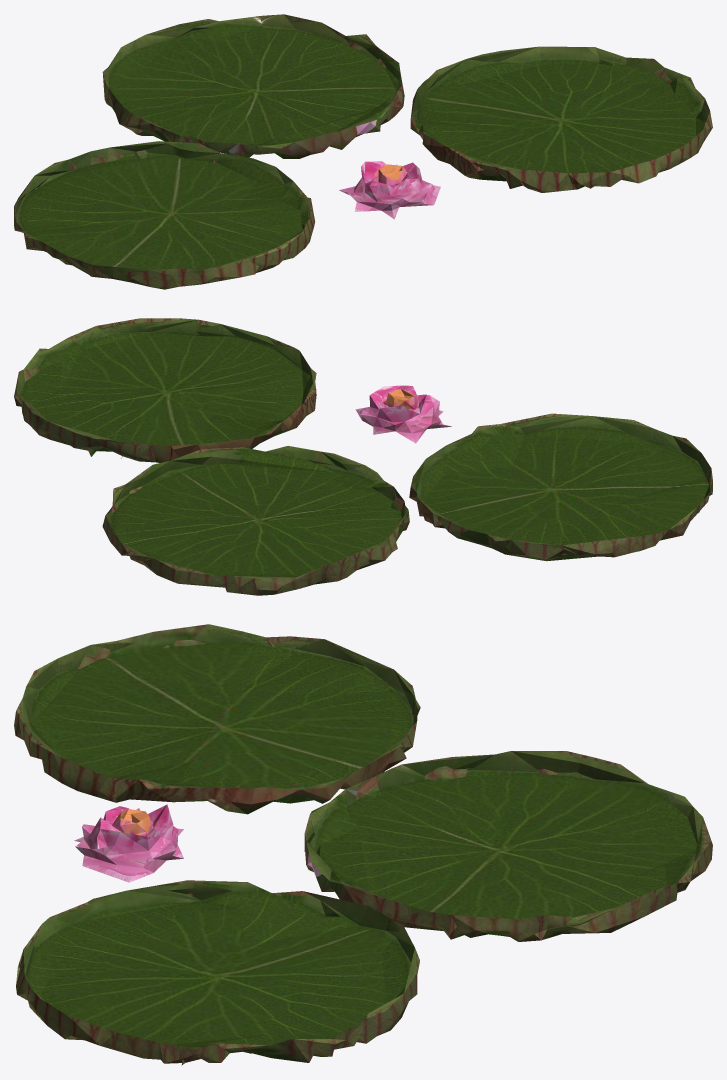
The model's file is sp_m_lily.glb.
3 renders of one model, top to bottom at view 1: azimuth 30°, elevation 25°; view 2: azimuth 150°, elevation 25°; view 3: azimuth 270°, elevation 25°, orthographic. The views are drawn at different scales.
Parts seen in each view (by area): view 1: output_unwrapped; view 2: output_unwrapped; view 3: output_unwrapped.
Part boxes in pixels (bbox=[...]): output_unwrapped: bbox=[14, 14, 712, 289]; output_unwrapped: bbox=[14, 318, 712, 595]; output_unwrapped: bbox=[14, 624, 712, 1065].
Size of the model in its own units: 1.89 by 0.1021 by 1.32.
Materials: 1 (1 with a texture image).
